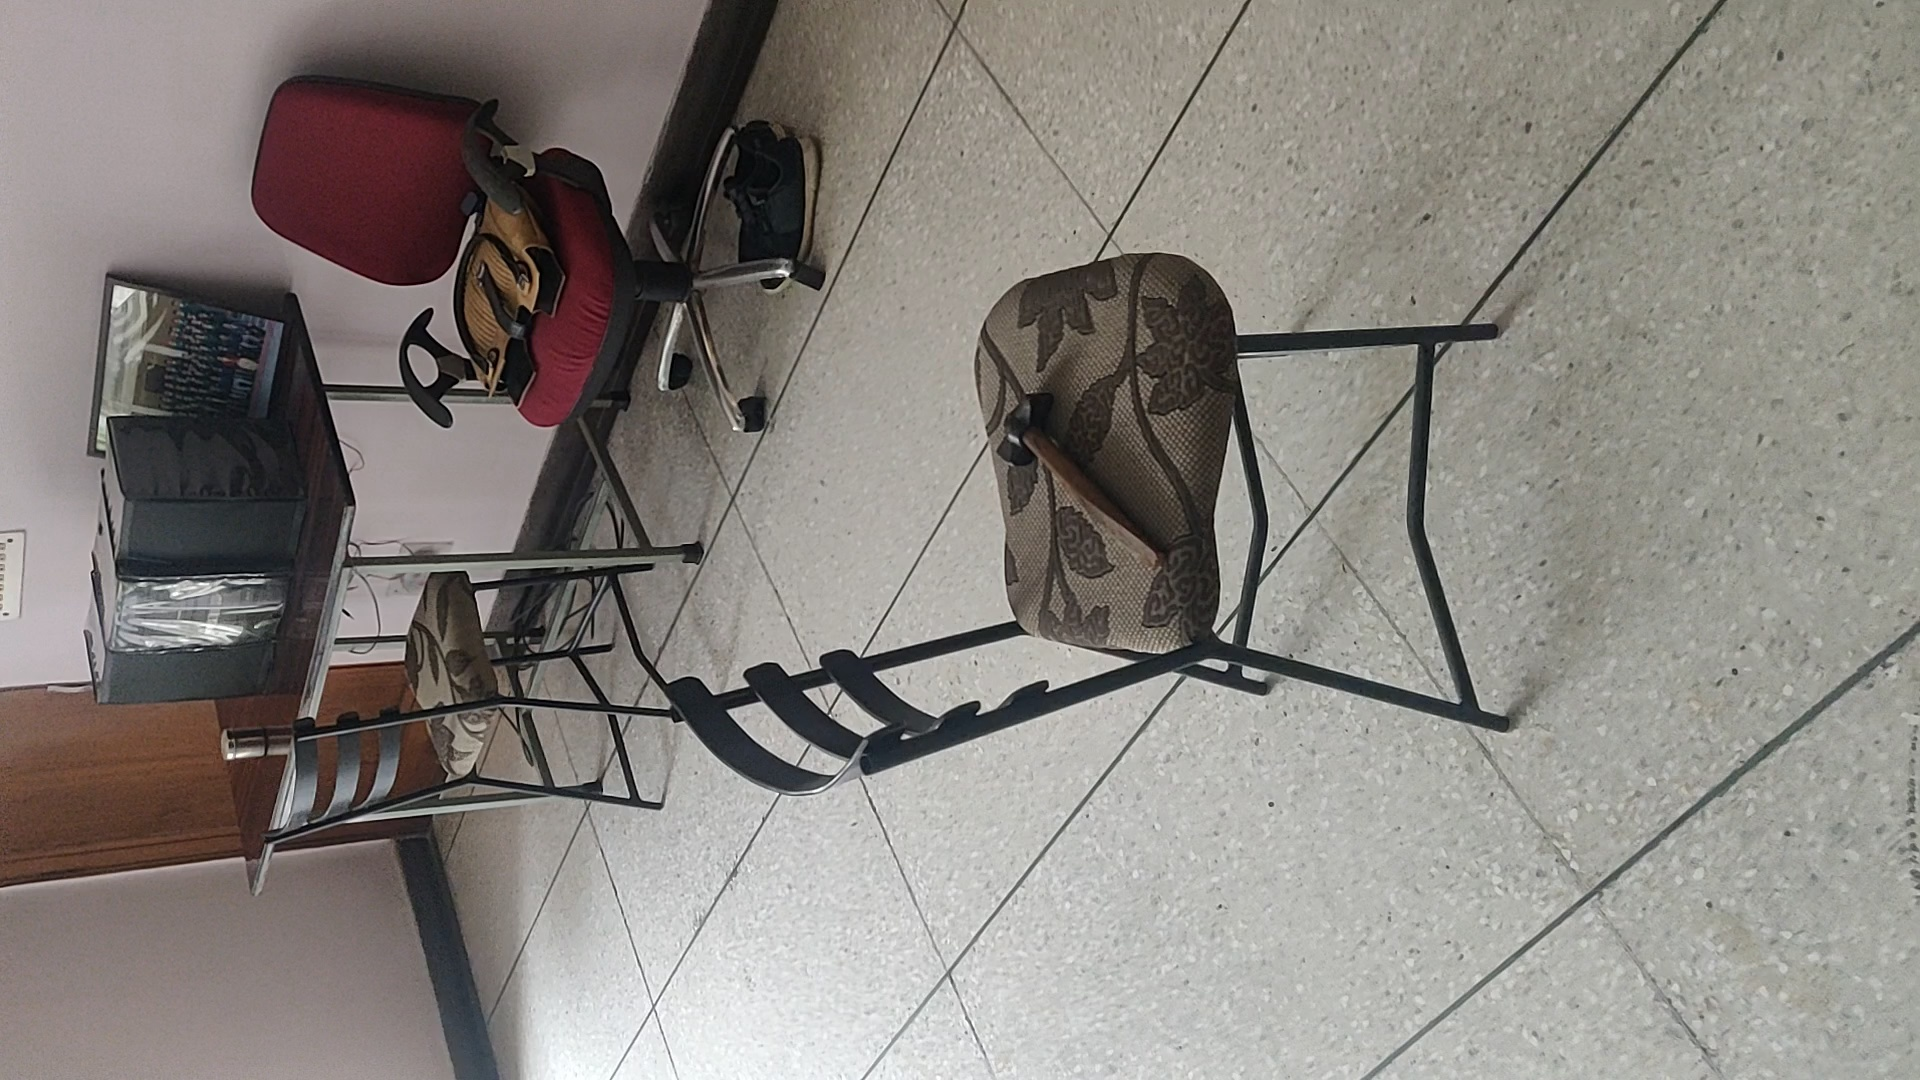hammer: (996, 392, 1156, 574)
